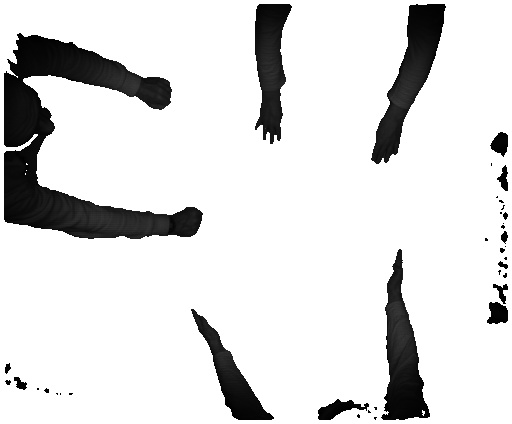fist: (174, 200, 207, 239), (141, 76, 175, 111)
hand: (368, 122, 404, 167), (248, 102, 287, 143)
spine: (184, 304, 225, 350), (384, 248, 407, 299)
